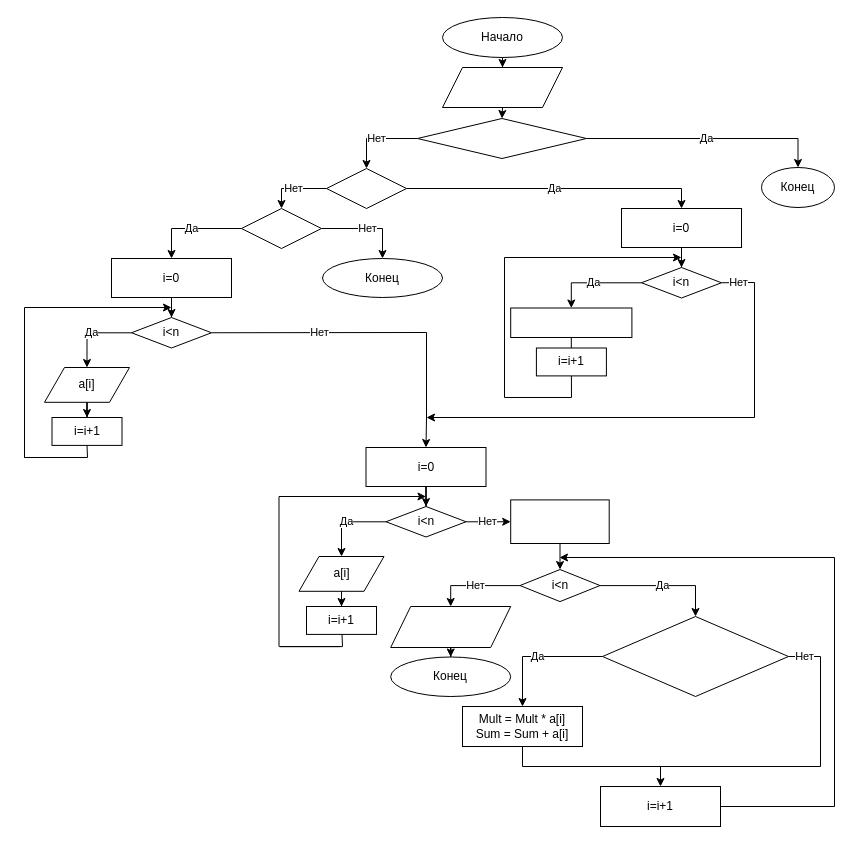
The diagram is 860 pixels wide and 852 high, and some of its shapes have lost their labels. The centre of each missing label's shape, as x and y in pixels:
"(a[i] >= 0) && (sin(a[i]) <= 0)" belongs at point (695, 656).
"(n <= 1) || (n > 100)" belongs at point (501, 138).
"a[i] = 50 - rand()%100" belongs at point (571, 322).
"Flag = 'N'" belongs at point (281, 228).
"Flag = 'Y'" belongs at point (366, 188).
"Mult=1 Sum=0 i=0" belongs at point (559, 521).
"n, Flag" belongs at point (502, 87).
"Sum, Mult" belongs at point (450, 627).
